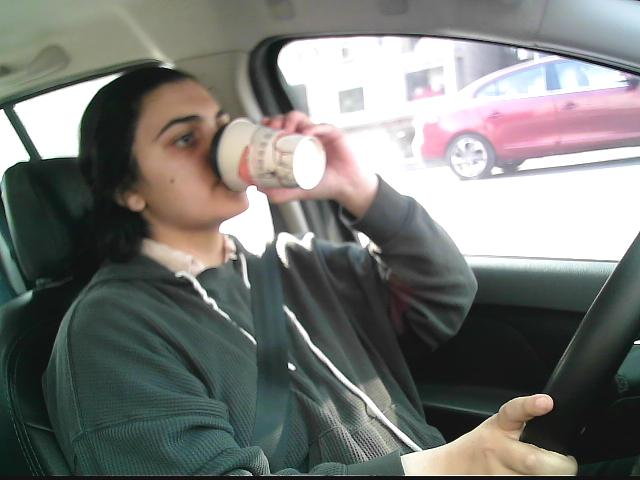Drinking: (209, 116, 329, 195)
